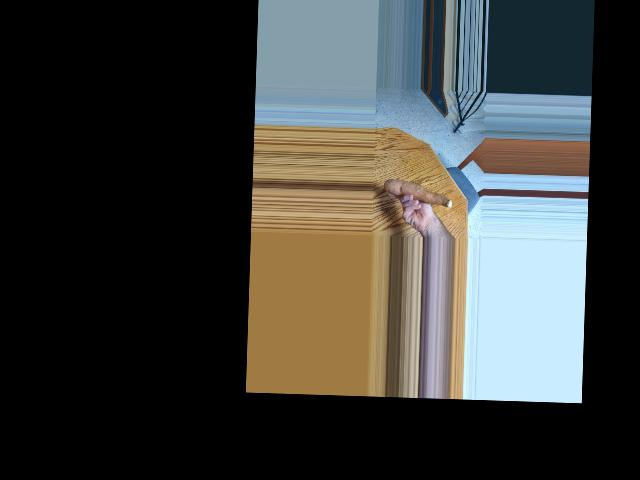sweet_potato: (384, 176, 454, 210)
